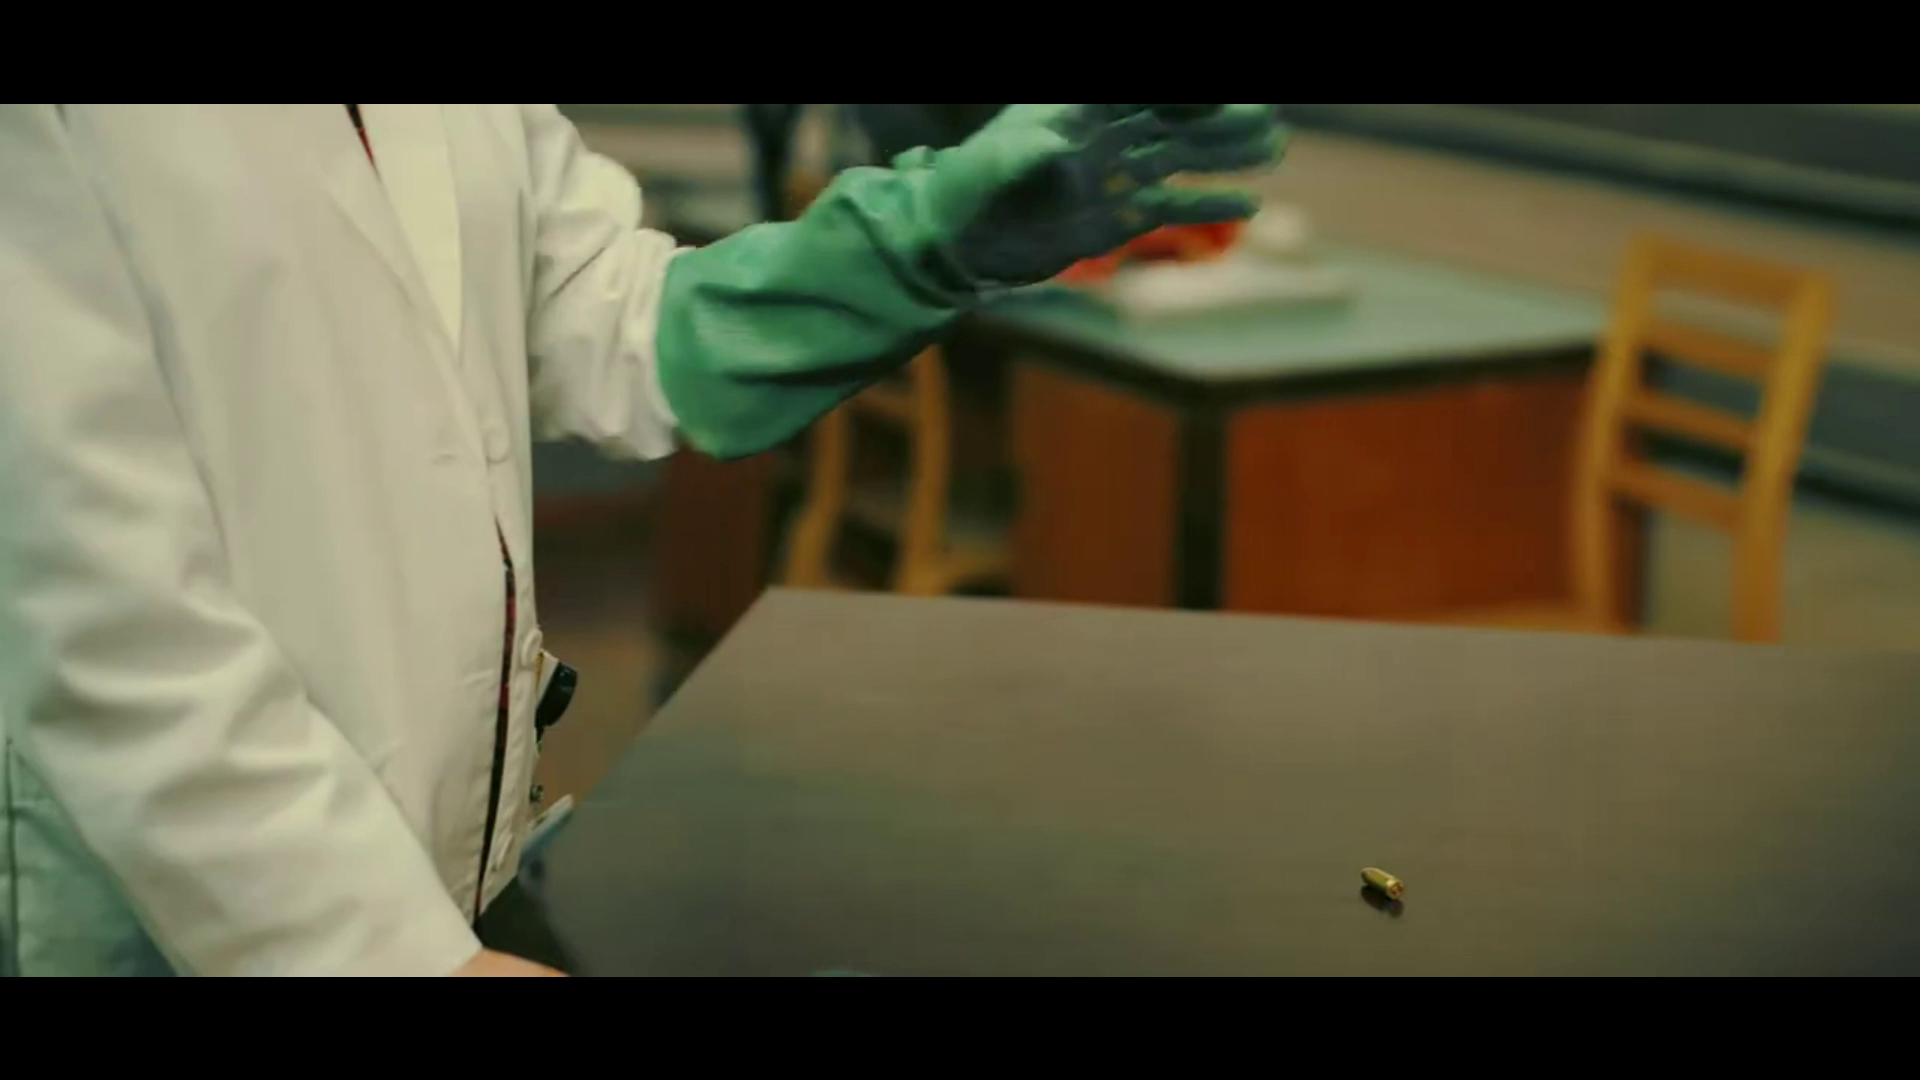Bullet: (1354, 862, 1400, 894)
